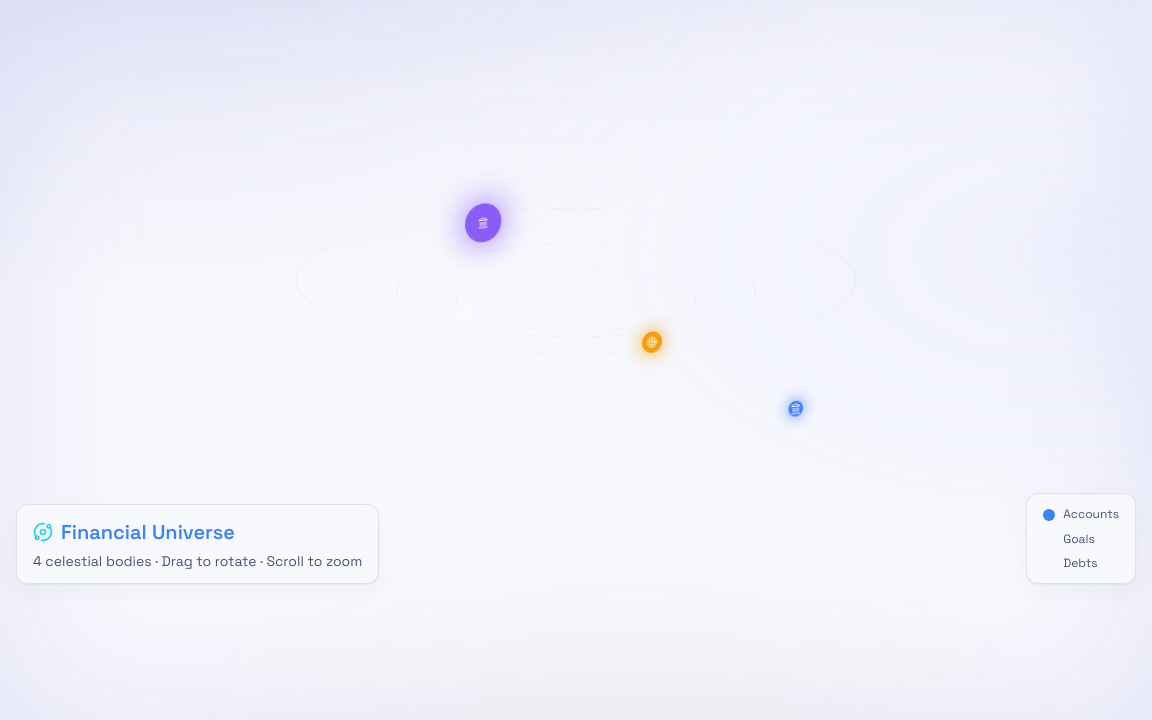
Test: FinancialUniverse › shows a focus panel when a node is clicked
What coordinates should you click on to do the following:
click the button with test id "universe-node-account-1"
I would click on:
 (796, 409)
Its box is [788,400,803,417].
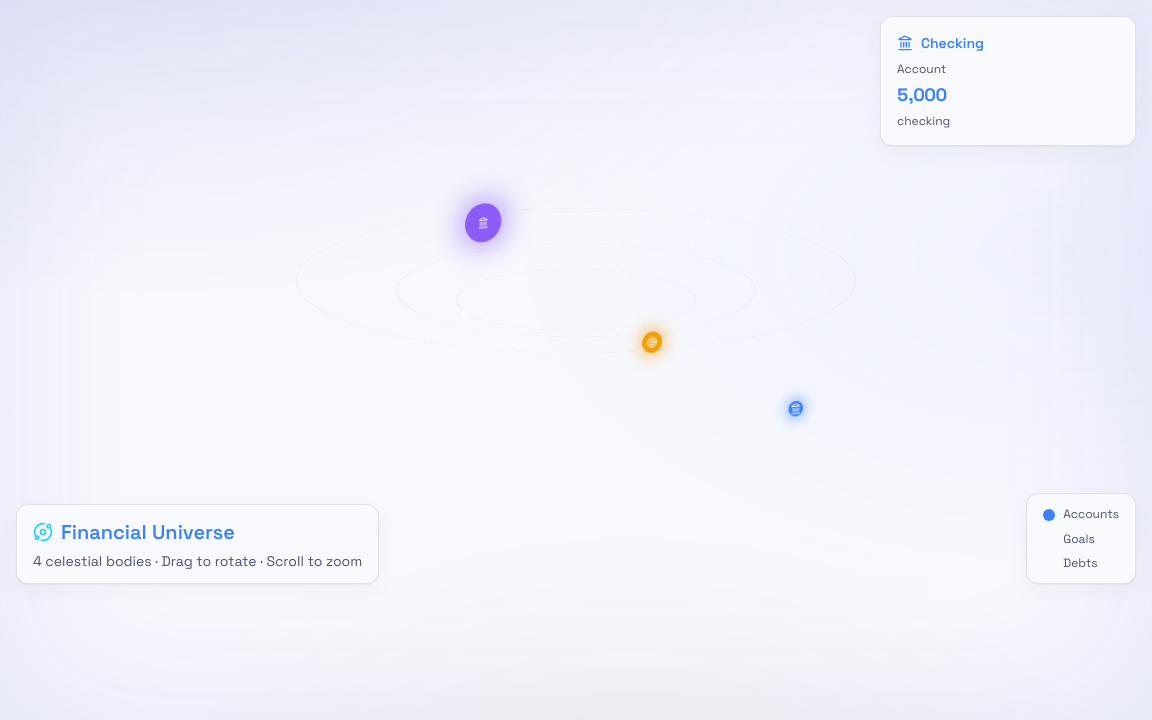
expect the heading "Checking" is shown: met, box [921,33,984,53]
expect the text "5,000" is shown: met, box [897,83,947,106]
